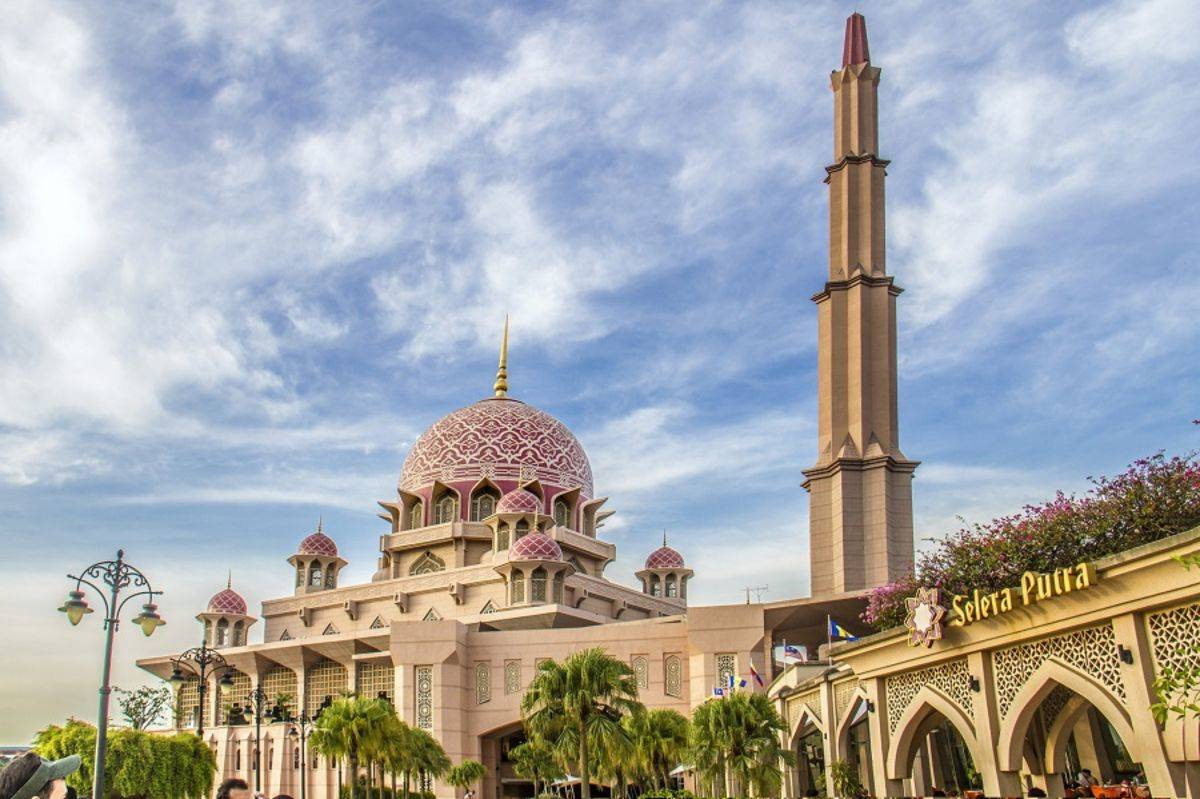Mosque: (229, 16, 913, 740)
